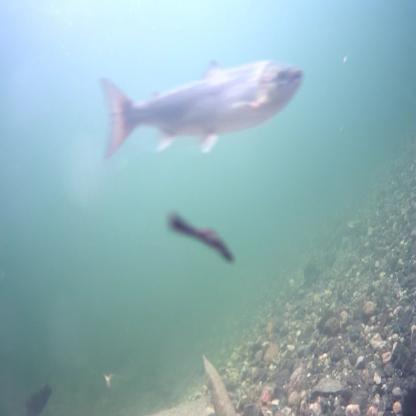salmon: (96, 53, 306, 168)
